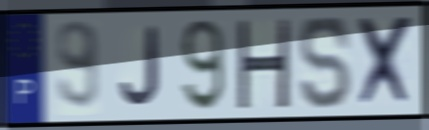9: (177, 17, 227, 114), (54, 18, 101, 118)
H: (234, 18, 292, 110)
J: (117, 24, 163, 109)
S: (297, 13, 354, 112)
X: (356, 13, 416, 110)
